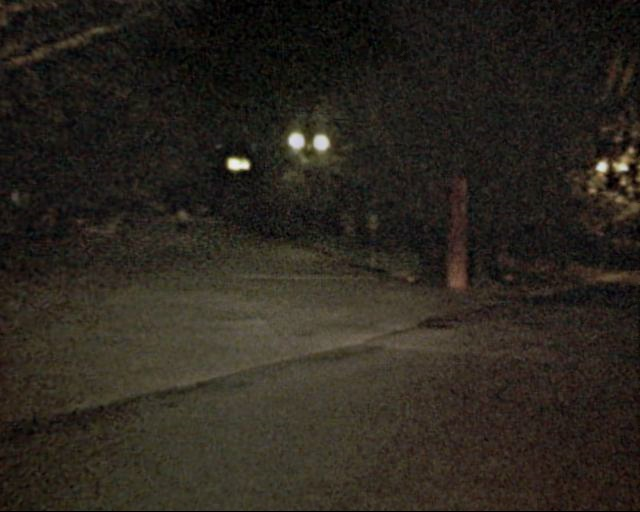person: (179, 203, 197, 248)
